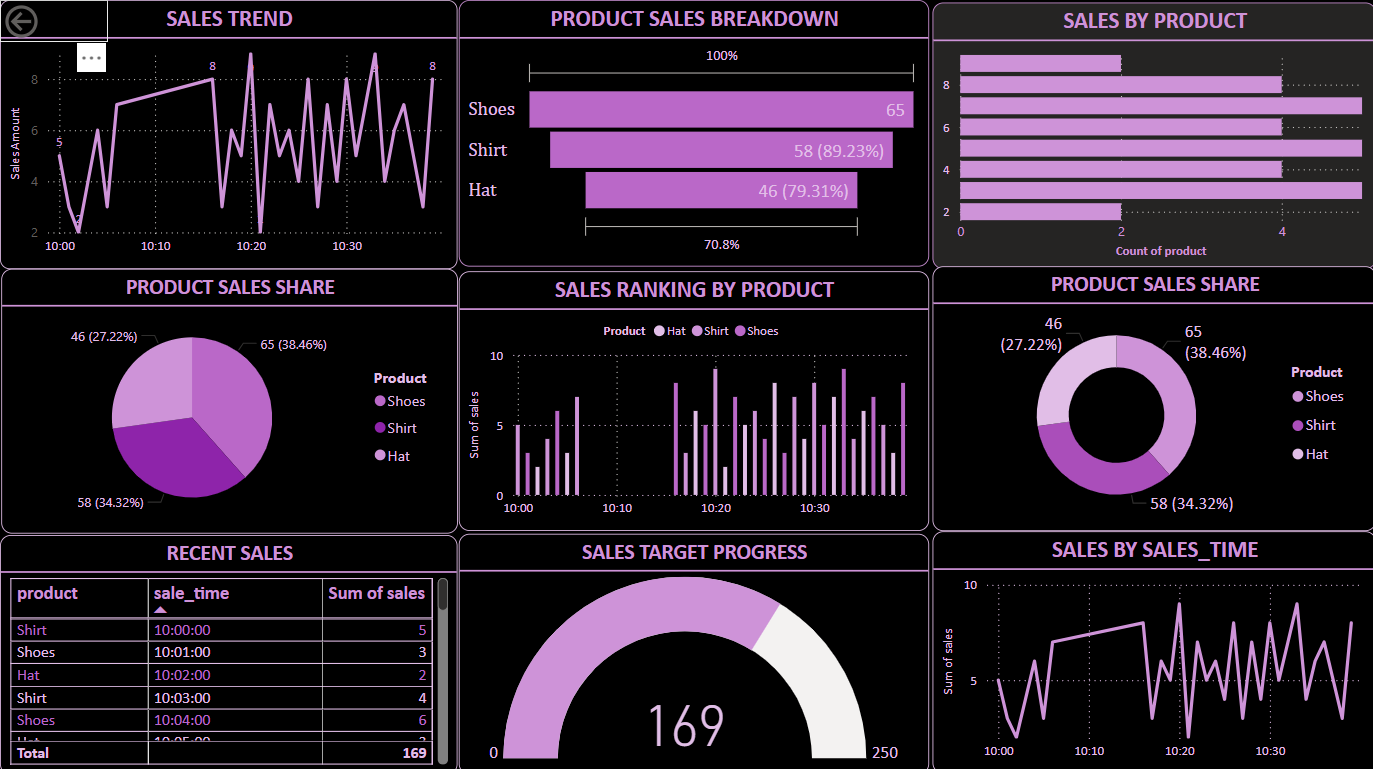

What the dashboard file says about the page in this screenshot:
{"tool":"powerbi","page":{"name":"Page 1","canvas":[1280,720],"ordinal":0},"visuals":[{"type":"lineChart","title":"SALES TREND","fields":{"Y":["Sum(public sales.sales)"],"Category":["public sales.sale_time"]},"box":[0,0,425.6,250],"z":0},{"type":"clusteredBarChart","title":"SALES BY PRODUCT","fields":{"Y":["CountNonNull(public sales.product)"],"Category":["public sales.sales"]},"box":[867.4,2.3,412.8,247.7],"z":1000},{"type":"pieChart","title":"PRODUCT SALES SHARE","fields":{"Category":["public sales.product"],"Y":["Sum(public sales.sales)"]},"box":[1.2,250,424.4,246.5],"z":2000},{"type":"tableEx","title":"RECENT SALES","fields":{"Values":["public sales.product","public sales.sale_time","Sum(public sales.sales)"]},"box":[0,497.1,425.7,222.9],"z":3000},{"type":"gauge","title":"SALES TARGET PROGRESS","fields":{"Y":["Sum(public sales.sales)"]},"box":[426.4,496.4,437.3,223.6],"z":4000},{"type":"actionButton","box":[0,0,100,40],"z":5000},{"type":"funnel","title":"PRODUCT SALES BREAKDOWN","fields":{"Category":["LatestSale.product"],"Y":["Sum(LatestSale.sales)"]},"box":[426.7,0,437.2,247.7],"z":6000},{"type":"ribbonChart","title":"SALES RANKING BY PRODUCT","fields":{"Category":["LatestSale.sale_time"],"Series":["LatestSale.product"],"Y":["Sum(LatestSale.sales)"]},"box":[426.7,252.3,437.2,241.9],"z":7000},{"type":"donutChart","title":"PRODUCT SALES SHARE","fields":{"Category":["LatestSale.product"],"Y":["Sum(LatestSale.sales)"]},"box":[867.4,247.7,412.8,246.5],"z":8000},{"type":"areaChart","title":"SALES BY SALES_TIME","fields":{"Category":["LatestSale.sale_time"],"Y":["Sum(LatestSale.sales)"]},"box":[867.4,494.2,412.8,225.6],"z":9000}]}

Visuals, with their boxes in screenshot pixels (x1, y1, x2, y2), scaled from the page's 1280x720 canvas onto the 1373x769 screenshot:
"SALES TREND" lineChart: bbox=(0, 0, 457, 267)
"SALES BY PRODUCT" clusteredBarChart: bbox=(930, 2, 1372, 267)
"PRODUCT SALES SHARE" pieChart: bbox=(1, 267, 457, 530)
"RECENT SALES" tableEx: bbox=(0, 531, 457, 768)
"SALES TARGET PROGRESS" gauge: bbox=(457, 530, 926, 768)
actionButton: bbox=(0, 0, 107, 43)
"PRODUCT SALES BREAKDOWN" funnel: bbox=(458, 0, 927, 265)
"SALES RANKING BY PRODUCT" ribbonChart: bbox=(458, 269, 927, 528)
"PRODUCT SALES SHARE" donutChart: bbox=(930, 265, 1372, 528)
"SALES BY SALES_TIME" areaChart: bbox=(930, 528, 1372, 768)
